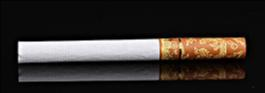Cigarette: (17, 36, 247, 64)
